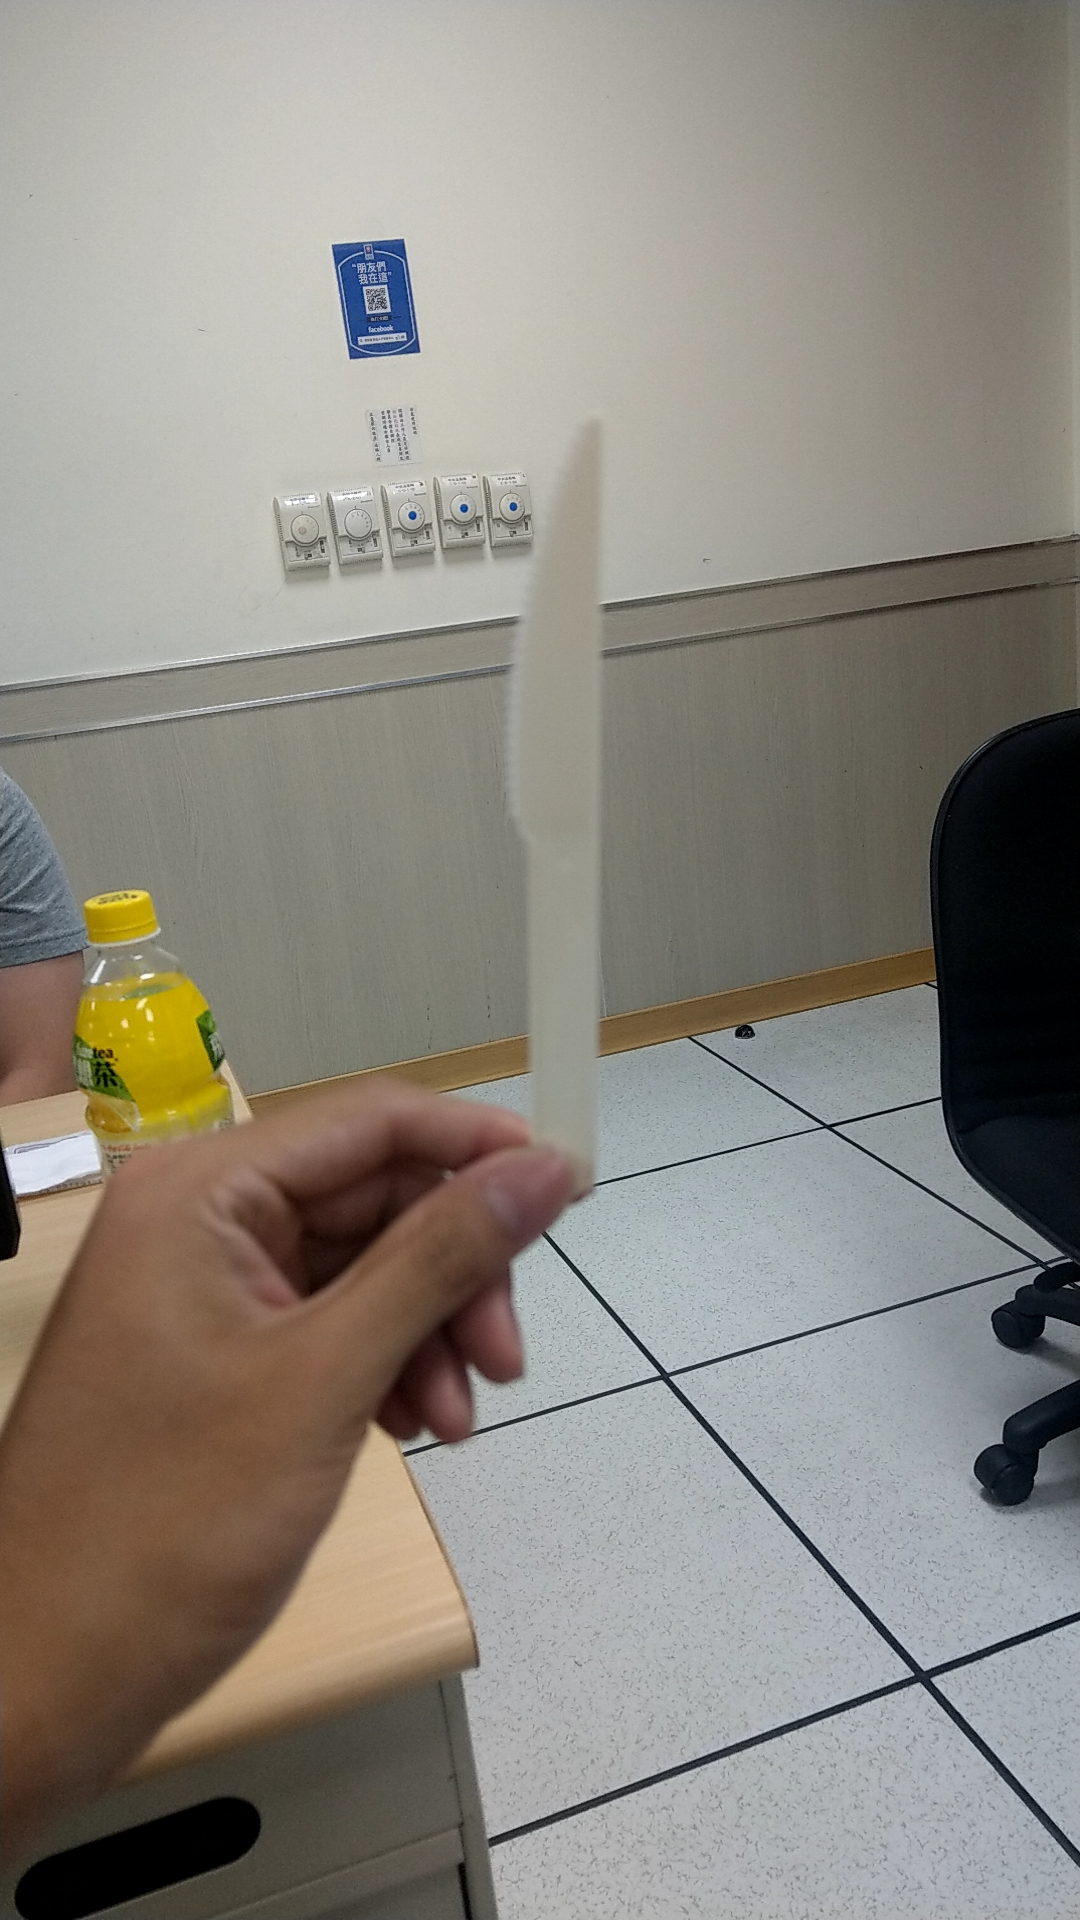knife: (479, 400, 654, 1193)
